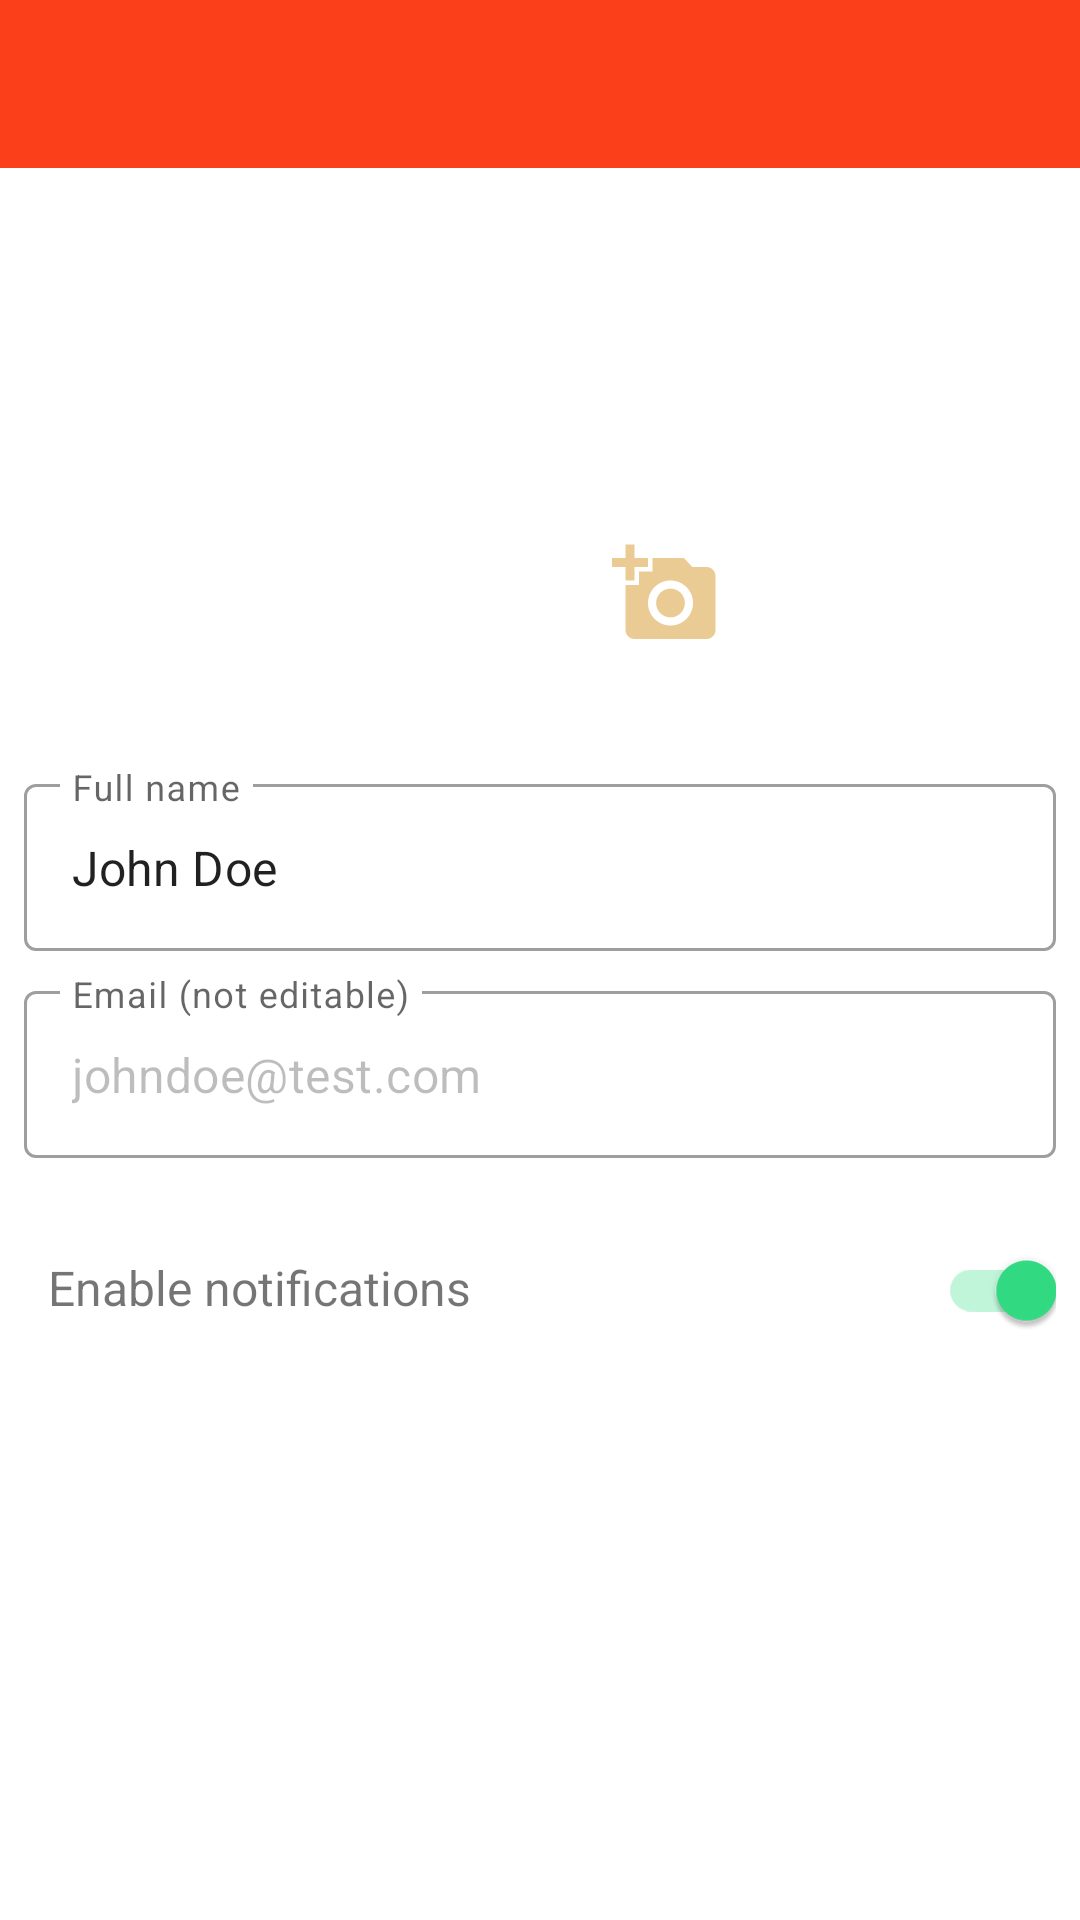

Point at icon controls on the screen. Image size 1080 x 1920, points as (x=x, y=y).
update avatar picture: (x=664, y=591)
